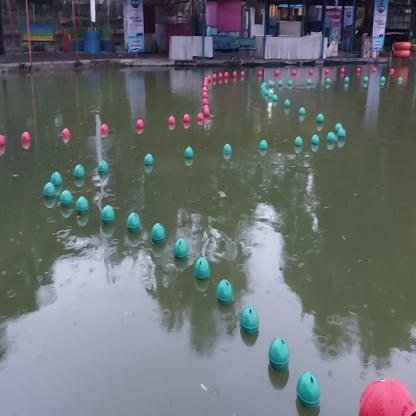green_buoy: (295, 369, 321, 407), (267, 335, 290, 372), (238, 304, 261, 336), (216, 278, 235, 306), (192, 255, 210, 281), (172, 238, 190, 261), (150, 222, 166, 244), (125, 209, 140, 230), (48, 168, 62, 188), (101, 202, 115, 222), (72, 161, 86, 180), (59, 188, 73, 207), (75, 195, 89, 214), (96, 160, 110, 175), (43, 182, 56, 198), (144, 151, 154, 168), (184, 145, 195, 159), (337, 127, 347, 140), (332, 121, 343, 132), (310, 134, 320, 146), (316, 112, 325, 125), (223, 142, 232, 155), (327, 131, 335, 143), (259, 138, 267, 150), (294, 136, 303, 146), (298, 106, 306, 115), (284, 98, 290, 107)
red_buoy: (20, 129, 31, 145), (0, 132, 9, 150), (135, 118, 145, 130), (61, 127, 71, 139), (100, 122, 108, 136), (182, 112, 191, 124), (168, 114, 177, 125), (196, 111, 204, 122), (203, 107, 210, 118)
